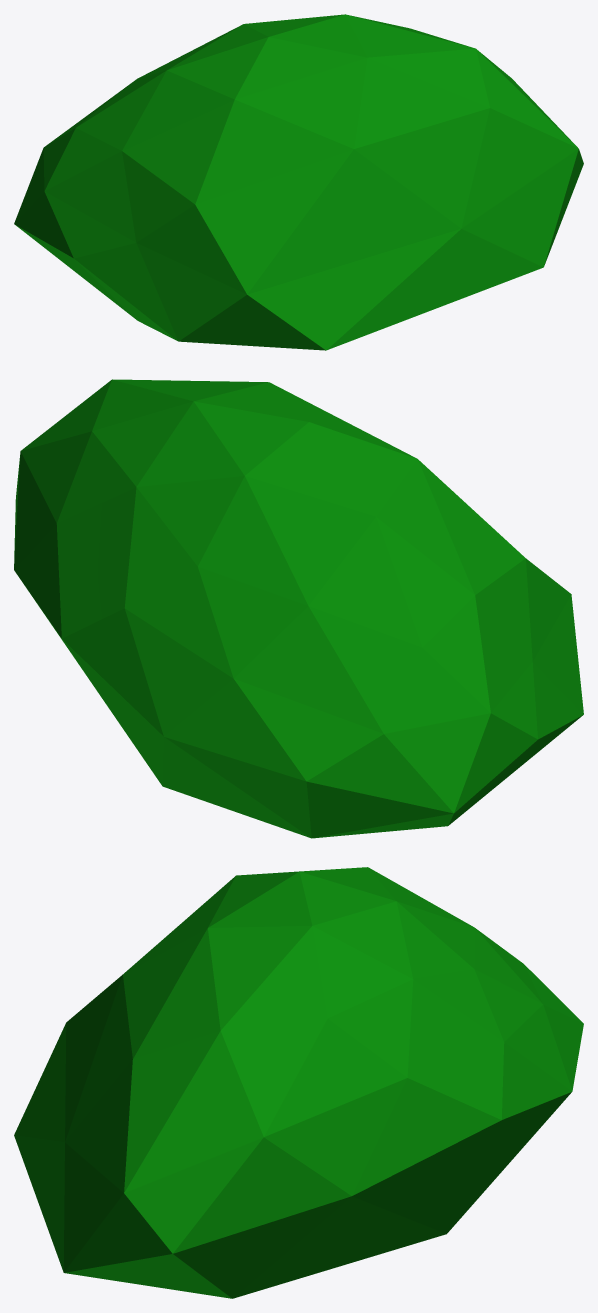
The model's file is lp_tree5_Cube_012.obj.
3 views of the same model, one above another, from view 1: azimuth 30°, elevation 25°; view 2: azimuth 150°, elevation 25°; view 3: azimuth 270°, elevation 25° (orthographic). The views are drawn at different scales.
Parts seen in each view (by area): view 1: lp_tree5_Cube_012; view 2: lp_tree5_Cube_012; view 3: lp_tree5_Cube_012.
Part boxes in pixels (box(x1,y1,x2,y2)): lp_tree5_Cube_012: box(14, 14, 583, 350); lp_tree5_Cube_012: box(14, 379, 583, 838); lp_tree5_Cube_012: box(14, 867, 583, 1298).
Size of the model in its own units: 5.26 by 3.06 by 4.33.
